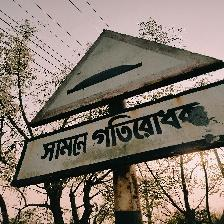Speed-breaker: (20, 26, 224, 179)
